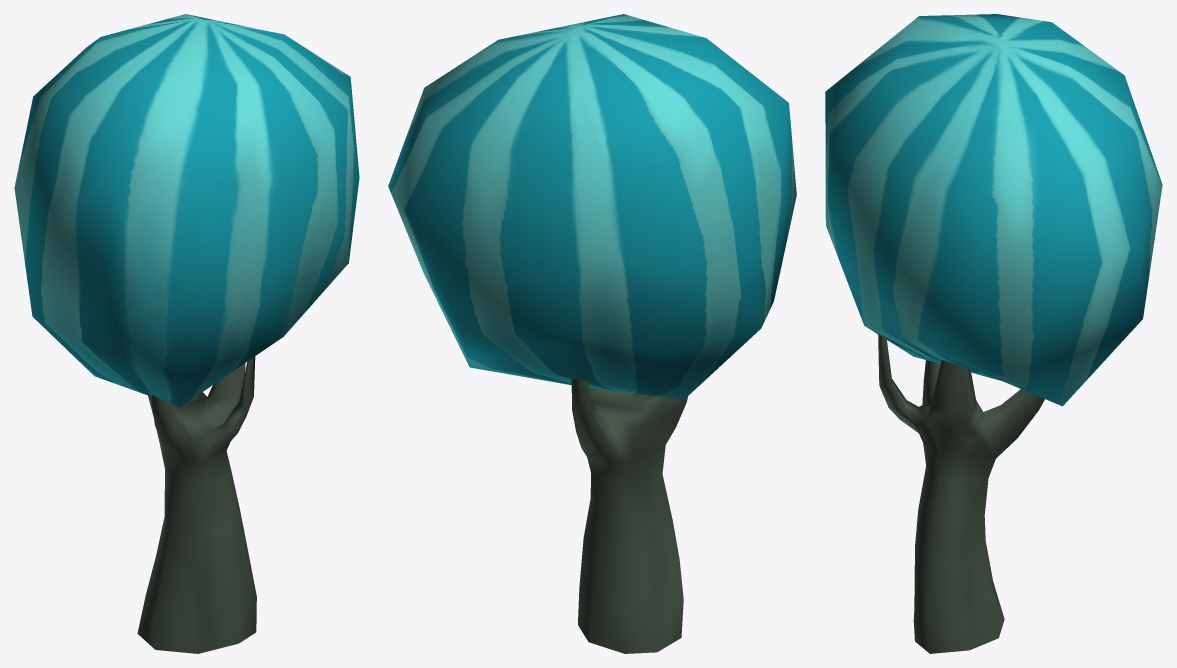
The model's file is tree_I.fbx.
3 renders of one model, left to right at view 1: azimuth 30°, elevation 25°; view 2: azimuth 150°, elevation 25°; view 3: azimuth 270°, elevation 25°, orthographic. The views are drawn at different scales.
Visible parts, largest first — view 1: treeD; view 2: treeD; view 3: treeD.
Boxes of the visible parts, <box> form: treeD: <box>14,14,359,653</box>; treeD: <box>388,14,796,653</box>; treeD: <box>825,14,1162,653</box>.
Bounding box in the file's own units: 144 × 250 × 126.
